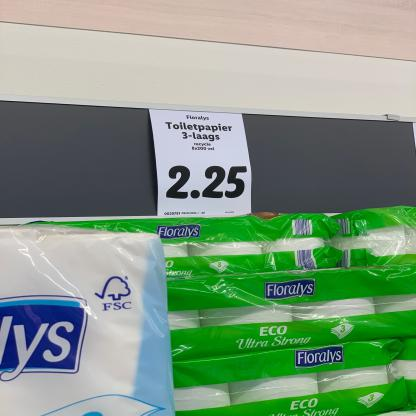prtg: (150, 110, 252, 217)
